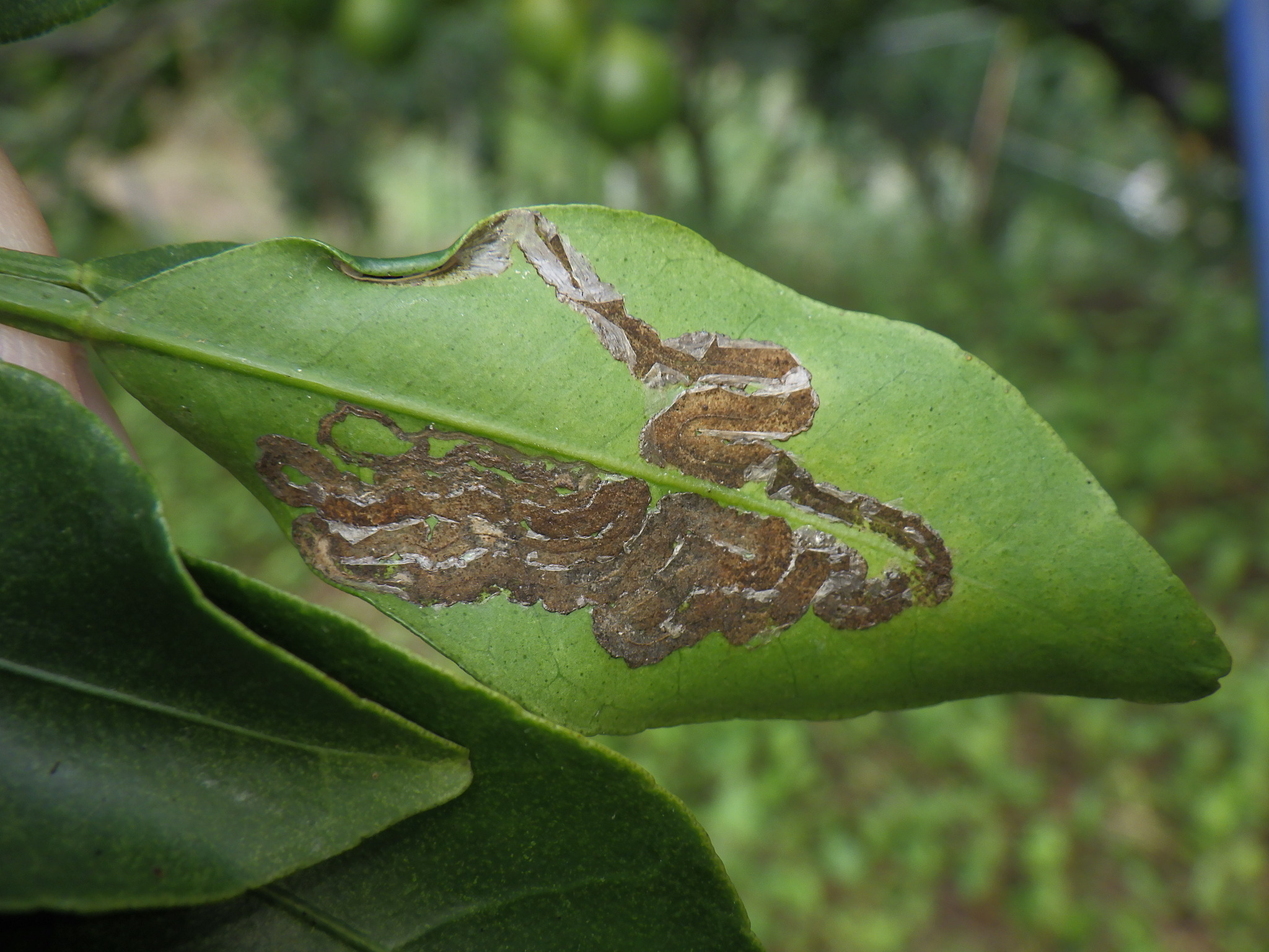Citrus_Leaf_Miner: (256, 402, 952, 667), (522, 216, 817, 455)
